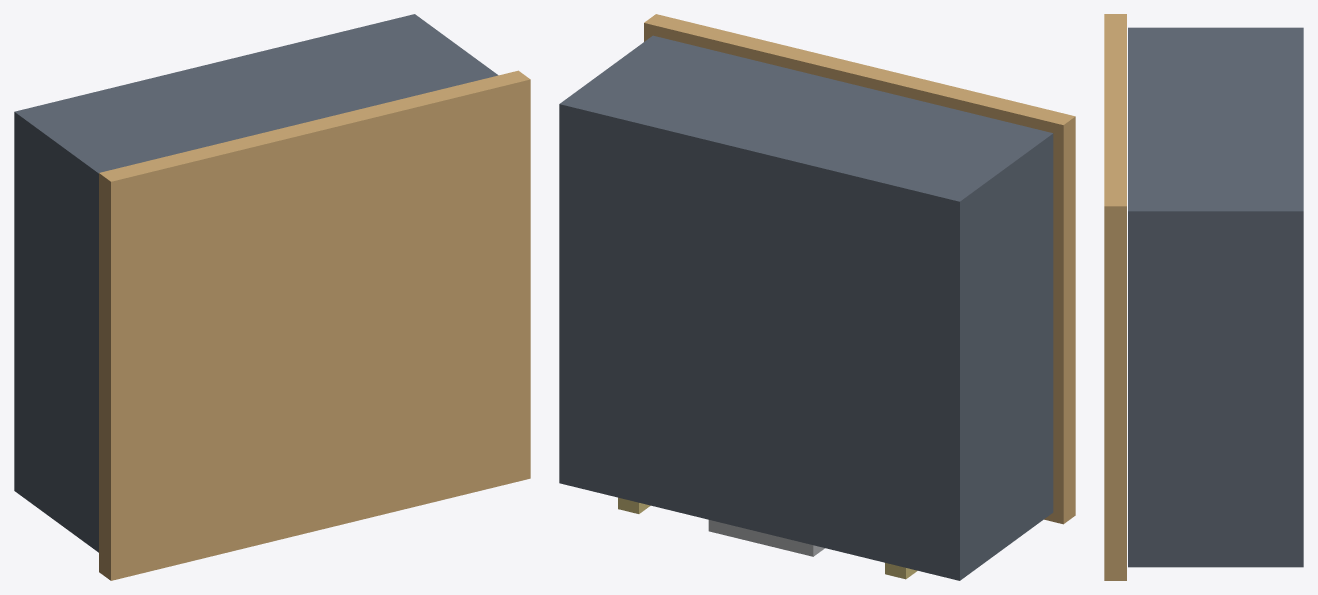
The model's file is radiation_shelter.glb.
The picture shows the model from 3 angles, left to right: view 1: azimuth 30°, elevation 25°; view 2: azimuth 150°, elevation 25°; view 3: azimuth 270°, elevation 25°; orthographic projection. The views are drawn at different scales.
Parts seen in each view (by area): view 1: radiation_shelter_1, radiation_shelter_0; view 2: radiation_shelter_0, radiation_shelter_1, radiation_shelter_2; view 3: radiation_shelter_0, radiation_shelter_1.
Part boxes in pixels (x1,y1,x2,y2): radiation_shelter_1: [99, 70, 530, 580]; radiation_shelter_0: [14, 14, 498, 552]; radiation_shelter_0: [559, 35, 1053, 580]; radiation_shelter_1: [644, 14, 1075, 524]; radiation_shelter_2: [708, 520, 824, 556]; radiation_shelter_0: [1128, 27, 1303, 567]; radiation_shelter_1: [1104, 14, 1126, 580].
Bounding box in the file's own units: 4.4 × 4.08 × 1.93.
